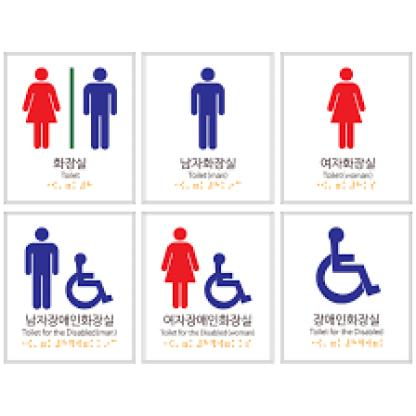toilet: (24, 63, 121, 152), (158, 222, 254, 309), (21, 224, 115, 312), (309, 227, 387, 307), (183, 64, 231, 153), (324, 66, 368, 152)
